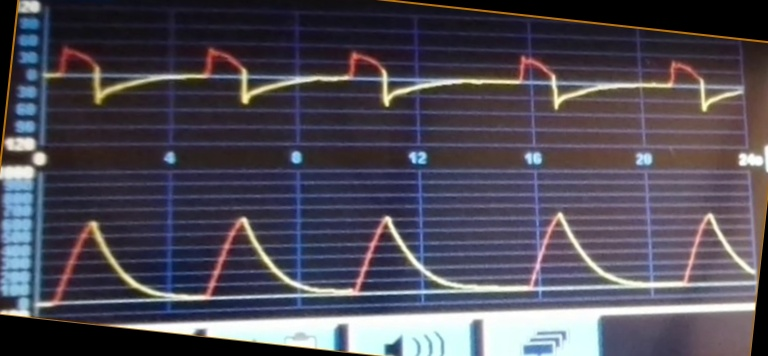Normal Flow: (46, 39, 742, 119)
Normal Volume: (45, 206, 754, 301)
